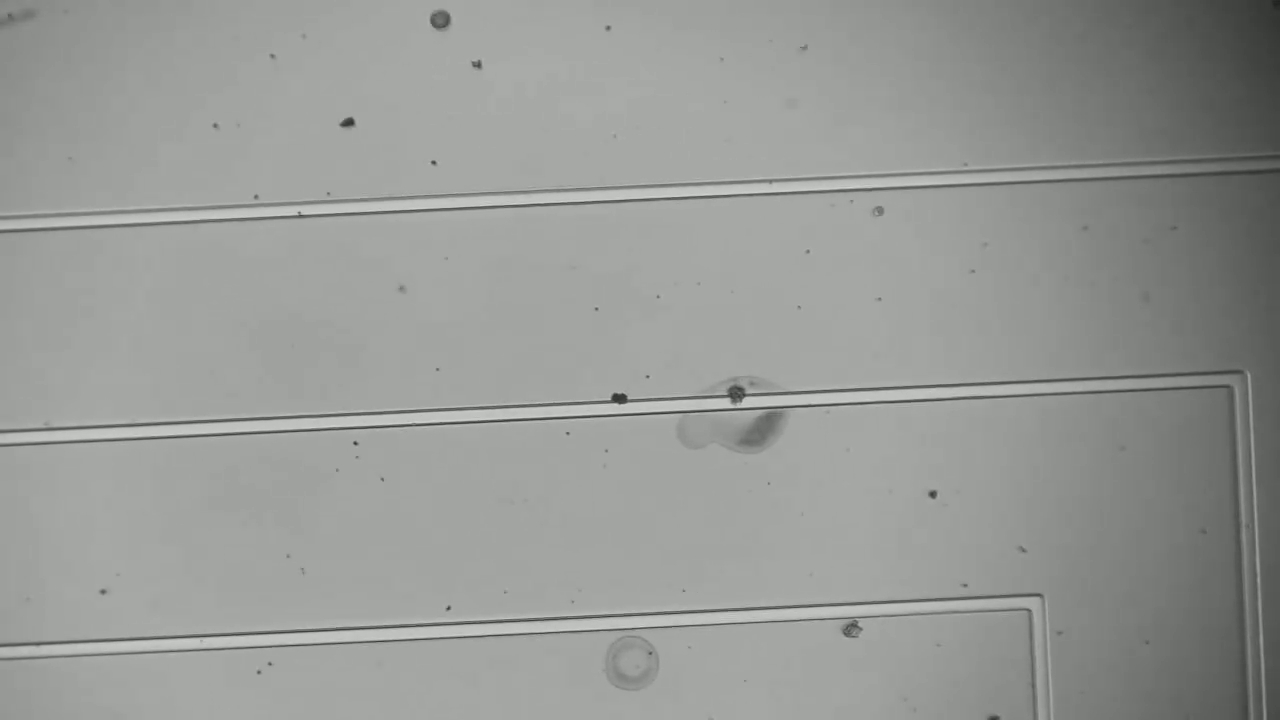stains_enbedded: (720, 376, 756, 418)
